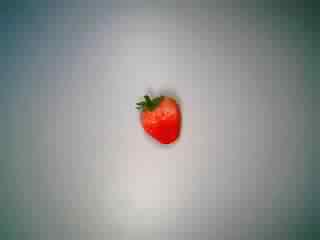strawberry: (126, 83, 192, 149)
